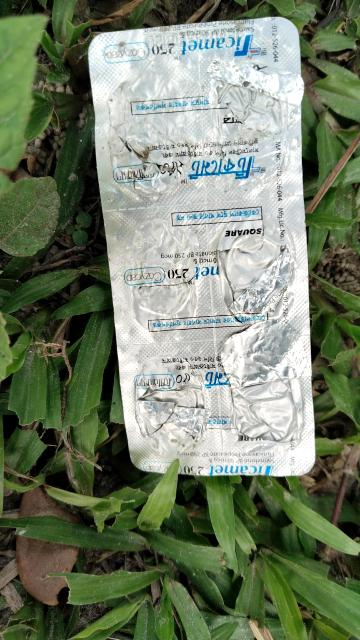medicine: (82, 21, 320, 479)
